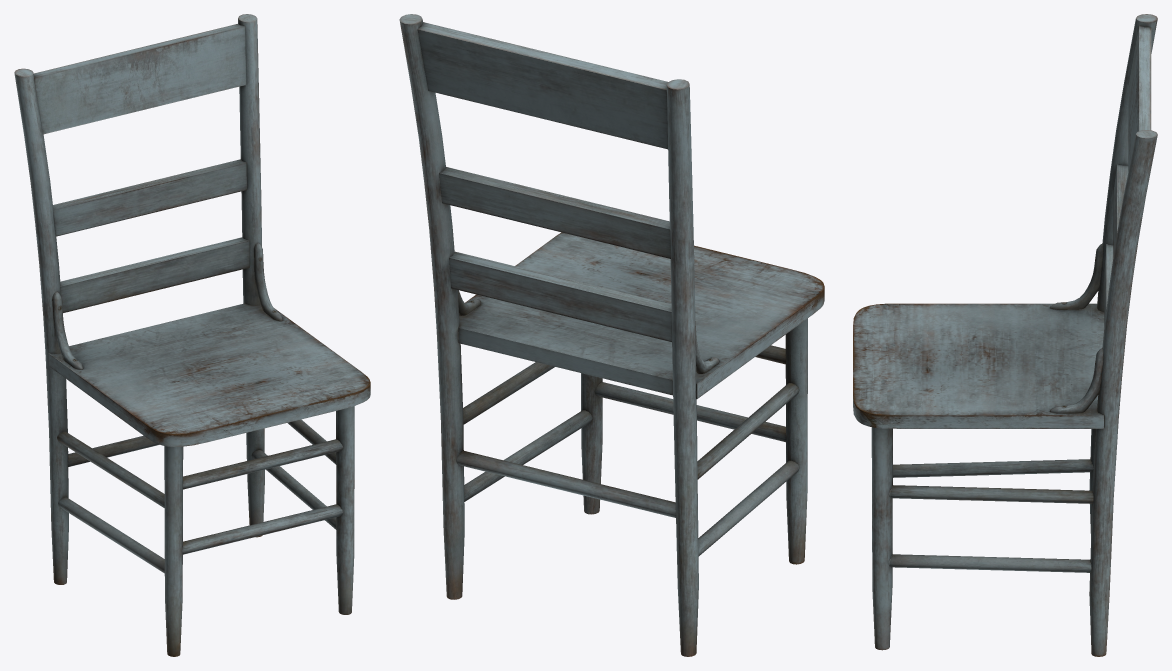
File: painted_wooden_chair_02_1k.gltf
3 renders of one model, left to right at view 1: azimuth 30°, elevation 25°; view 2: azimuth 150°, elevation 25°; view 3: azimuth 270°, elevation 25°, orthographic. The views are drawn at different scales.
Parts seen in each view (by area): view 1: painted_wooden_chair_02; view 2: painted_wooden_chair_02; view 3: painted_wooden_chair_02.
Part boxes in pixels (box(x1,y1,x2,y2)): painted_wooden_chair_02: box(14, 14, 370, 656); painted_wooden_chair_02: box(399, 14, 824, 656); painted_wooden_chair_02: box(853, 14, 1157, 656).
Size of the model in its own units: 0.6394 by 1.26 by 0.6621.
Materials: 1 (1 with a texture image).
